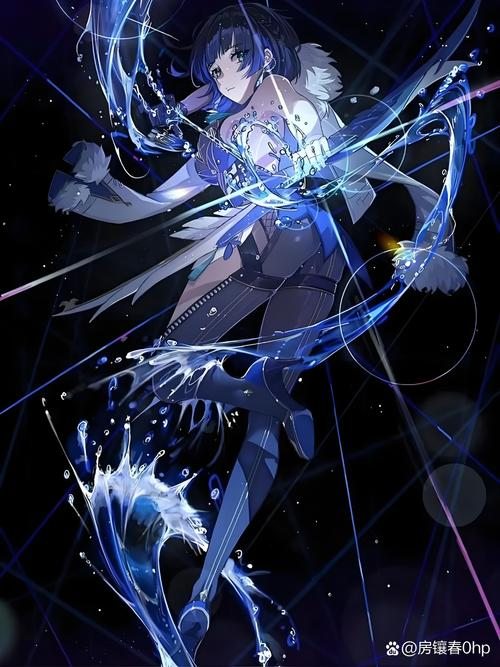夜兰: (100, 4, 349, 667)
